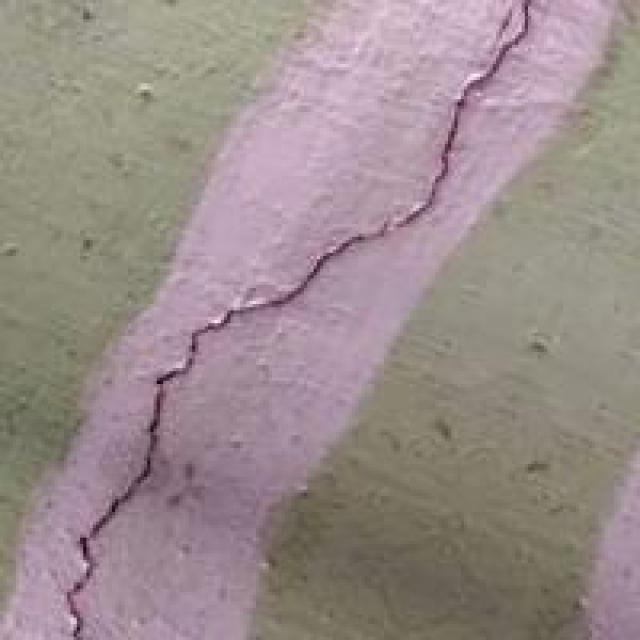Crack: (26, 0, 554, 637)
